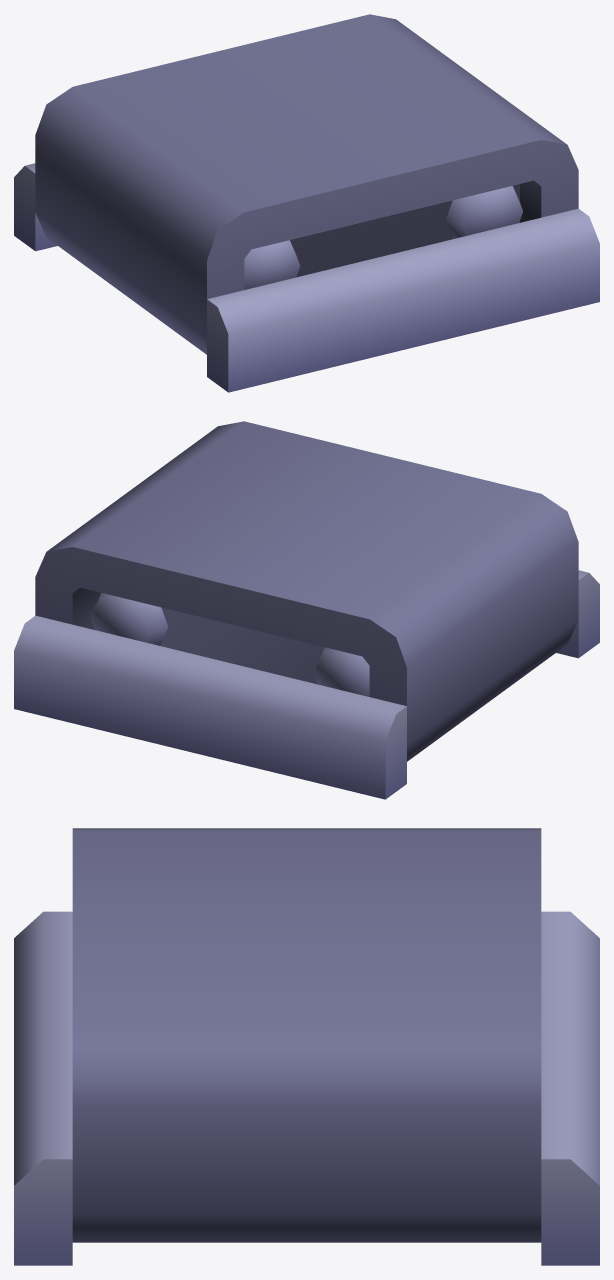
Rendered from kenney-factory-conveyor-sides.glb.
The picture shows the model from 3 angles, top to bottom: view 1: azimuth 30°, elevation 25°; view 2: azimuth 150°, elevation 25°; view 3: azimuth 270°, elevation 25°; orthographic projection. The views are drawn at different scales.
Visible parts, largest first — view 1: conveyor-sides; view 2: conveyor-sides; view 3: conveyor-sides.
Part boxes in pixels (x1,y1,x2,y2): conveyor-sides: [14, 14, 599, 392]; conveyor-sides: [14, 421, 599, 799]; conveyor-sides: [14, 828, 599, 1265].
Size of the model in its own units: 1.5 by 0.6 by 1.5.
1 material, 1 textured.
